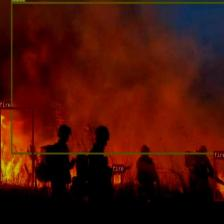fire: (0, 108, 33, 188), (213, 157, 224, 201), (112, 171, 122, 187)
smoke: (11, 1, 224, 154)
